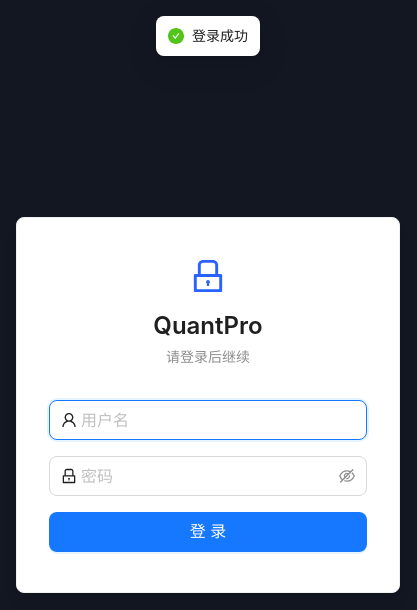
Test case: Login 页 › 密码错误：提示「用户名或密码错误」并停留登录页
Expected: the button with test id "login-submit" is shown, [49, 512, 367, 552]
Type "alice" into the field with test id "login-username" at (218, 420), box [81, 408, 355, 432]
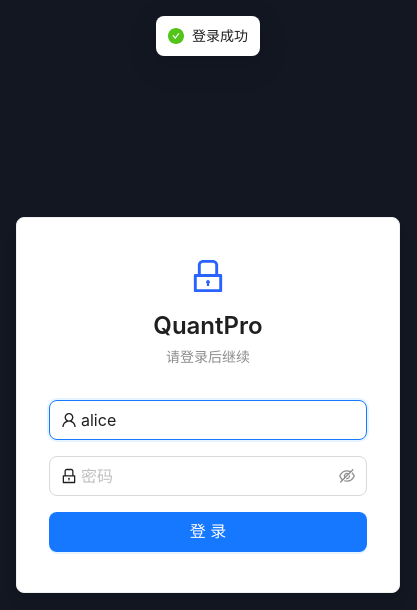
Type "wrong" into the password field with test id "login-password" at (208, 476), box [81, 464, 335, 488]
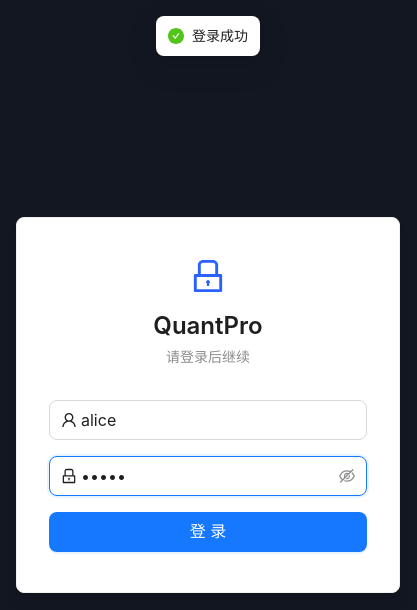
Click the button with test id "login-submit" at (208, 532), box [49, 512, 367, 552]
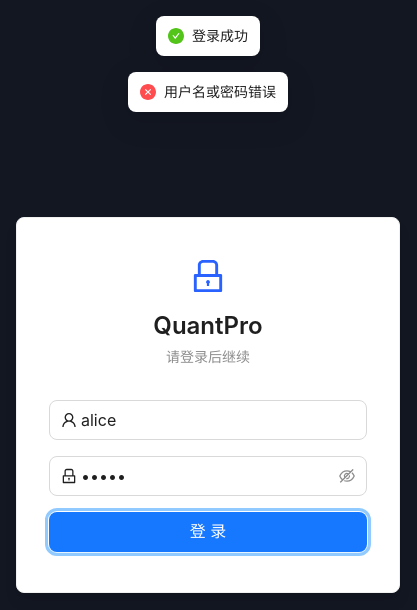
Now the text "用户名或密码错误" is shown, box [164, 81, 276, 103]
